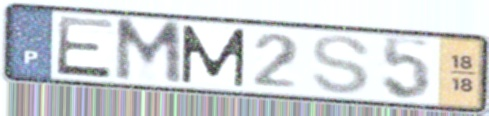2: (251, 32, 303, 92)
5: (377, 37, 434, 103)
E: (53, 14, 117, 81)
M: (112, 16, 185, 88), (179, 23, 249, 89)
S: (308, 32, 374, 97)
